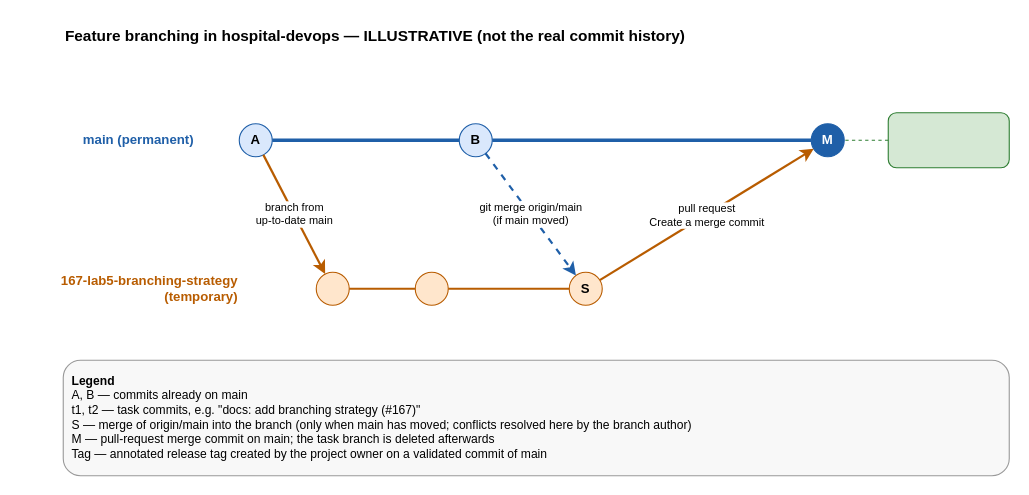
This 1029x495 diagram has some shape labels left out. Each missing label, with the box of its shape:
t1: (315, 271, 349, 305)
t2: (414, 271, 448, 305)
tag vX.Y.Z (annotated): (887, 112, 1009, 168)
